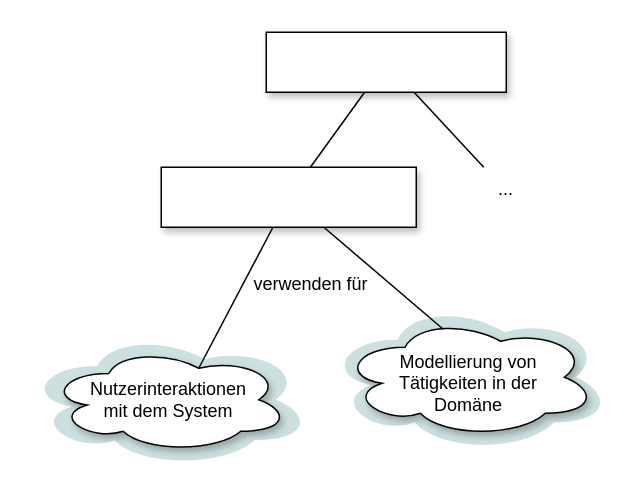
Some shapes in this 636 by 494 pixel diagram are drawn without their labels. Each missing label, with the centre of its shape:
"Anwendungsfalldiagramm" belongs at (289,199).
"Verhaltensdiagramme" belongs at (387,64).
